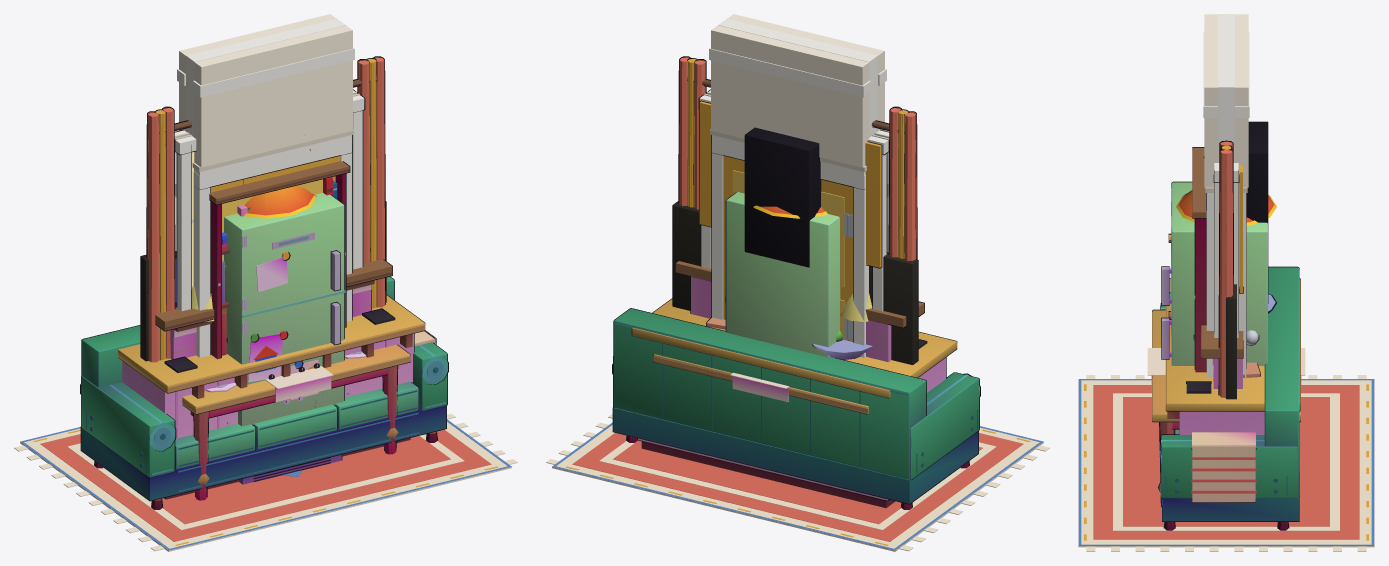
Rendered from fps-kit-livingroom.glb.
3 views of the same model, side by side, from view 1: azimuth 30°, elevation 25°; view 2: azimuth 150°, elevation 25°; view 3: azimuth 270°, elevation 25° (orthographic).
Parts seen in each view (by area): view 1: KIT_LIVINGROOM_GateFrame, KIT_LIVINGROOM_Landmark_Sofa, KIT_LIVINGROOM_Rug, KIT_LIVINGROOM_Fridge, KIT_LIVINGROOM_Window_R, KIT_LIVINGROOM_Island, KIT_LIVINGROOM_DiningTable, KIT_LIVINGROOM_Bookshelf, KIT_LIVINGROOM_Fireplace, KIT_LIVINGROOM_Window, KIT_LIVINGROOM_TVStand; view 2: KIT_LIVINGROOM_Landmark_Sofa, KIT_LIVINGROOM_GateFrame, KIT_LIVINGROOM_Rug, KIT_LIVINGROOM_Fridge, KIT_LIVINGROOM_Window, KIT_LIVINGROOM_Counter_Stove, KIT_LIVINGROOM_Island, KIT_LIVINGROOM_Fireplace, KIT_LIVINGROOM_TVStand, KIT_LIVINGROOM_DiningTable, KIT_LIVINGROOM_Window_R; view 3: KIT_LIVINGROOM_Rug, KIT_LIVINGROOM_Landmark_Sofa, KIT_LIVINGROOM_GateFrame, KIT_LIVINGROOM_Fridge, KIT_LIVINGROOM_Island, KIT_LIVINGROOM_Window_R, KIT_LIVINGROOM_Bookshelf, KIT_LIVINGROOM_DiningTable, KIT_LIVINGROOM_Counter_Stove, KIT_LIVINGROOM_Window, KIT_LIVINGROOM_Fireplace, KIT_LIVINGROOM_TVStand.
Part boxes in pixels (x1,y1,x2,y2): KIT_LIVINGROOM_GateFrame: (177,14,354,357); KIT_LIVINGROOM_Landmark_Sofa: (80,276,448,509); KIT_LIVINGROOM_Rug: (14,413,517,551); KIT_LIVINGROOM_Fridge: (224,193,345,484); KIT_LIVINGROOM_Window_R: (147,57,385,362); KIT_LIVINGROOM_Island: (118,294,425,499); KIT_LIVINGROOM_DiningTable: (182,185,410,500); KIT_LIVINGROOM_Bookshelf: (209,135,350,359); KIT_LIVINGROOM_Fireplace: (155,259,392,359); KIT_LIVINGROOM_Window: (146,56,382,360); KIT_LIVINGROOM_TVStand: (140,201,395,372); KIT_LIVINGROOM_Landmark_Sofa: (612,308,980,509); KIT_LIVINGROOM_GateFrame: (709,14,886,357); KIT_LIVINGROOM_Rug: (546,414,1049,551); KIT_LIVINGROOM_Fridge: (725,192,840,357); KIT_LIVINGROOM_Window: (678,57,916,311); KIT_LIVINGROOM_Counter_Stove: (744,127,821,267); KIT_LIVINGROOM_Island: (631,298,957,507); KIT_LIVINGROOM_Fireplace: (675,100,924,362); KIT_LIVINGROOM_TVStand: (672,201,927,364); KIT_LIVINGROOM_DiningTable: (653,205,868,414); KIT_LIVINGROOM_Window_R: (681,56,917,259); KIT_LIVINGROOM_Rug: (1078,375,1374,551); KIT_LIVINGROOM_Landmark_Sofa: (1159,266,1299,530); KIT_LIVINGROOM_GateFrame: (1193,14,1259,377); KIT_LIVINGROOM_Fridge: (1161,181,1268,365); KIT_LIVINGROOM_Island: (1165,278,1300,434); KIT_LIVINGROOM_Window_R: (1213,140,1231,397); KIT_LIVINGROOM_Bookshelf: (1192,147,1206,372); KIT_LIVINGROOM_DiningTable: (1147,190,1305,507); KIT_LIVINGROOM_Counter_Stove: (1246,121,1268,268); KIT_LIVINGROOM_Window: (1221,140,1239,337); KIT_LIVINGROOM_Fireplace: (1201,165,1243,388); KIT_LIVINGROOM_TVStand: (1186,284,1236,399).
Bounding box in the file's own units: 16.9 × 18.54 × 12.
1 material, 1 textured.
